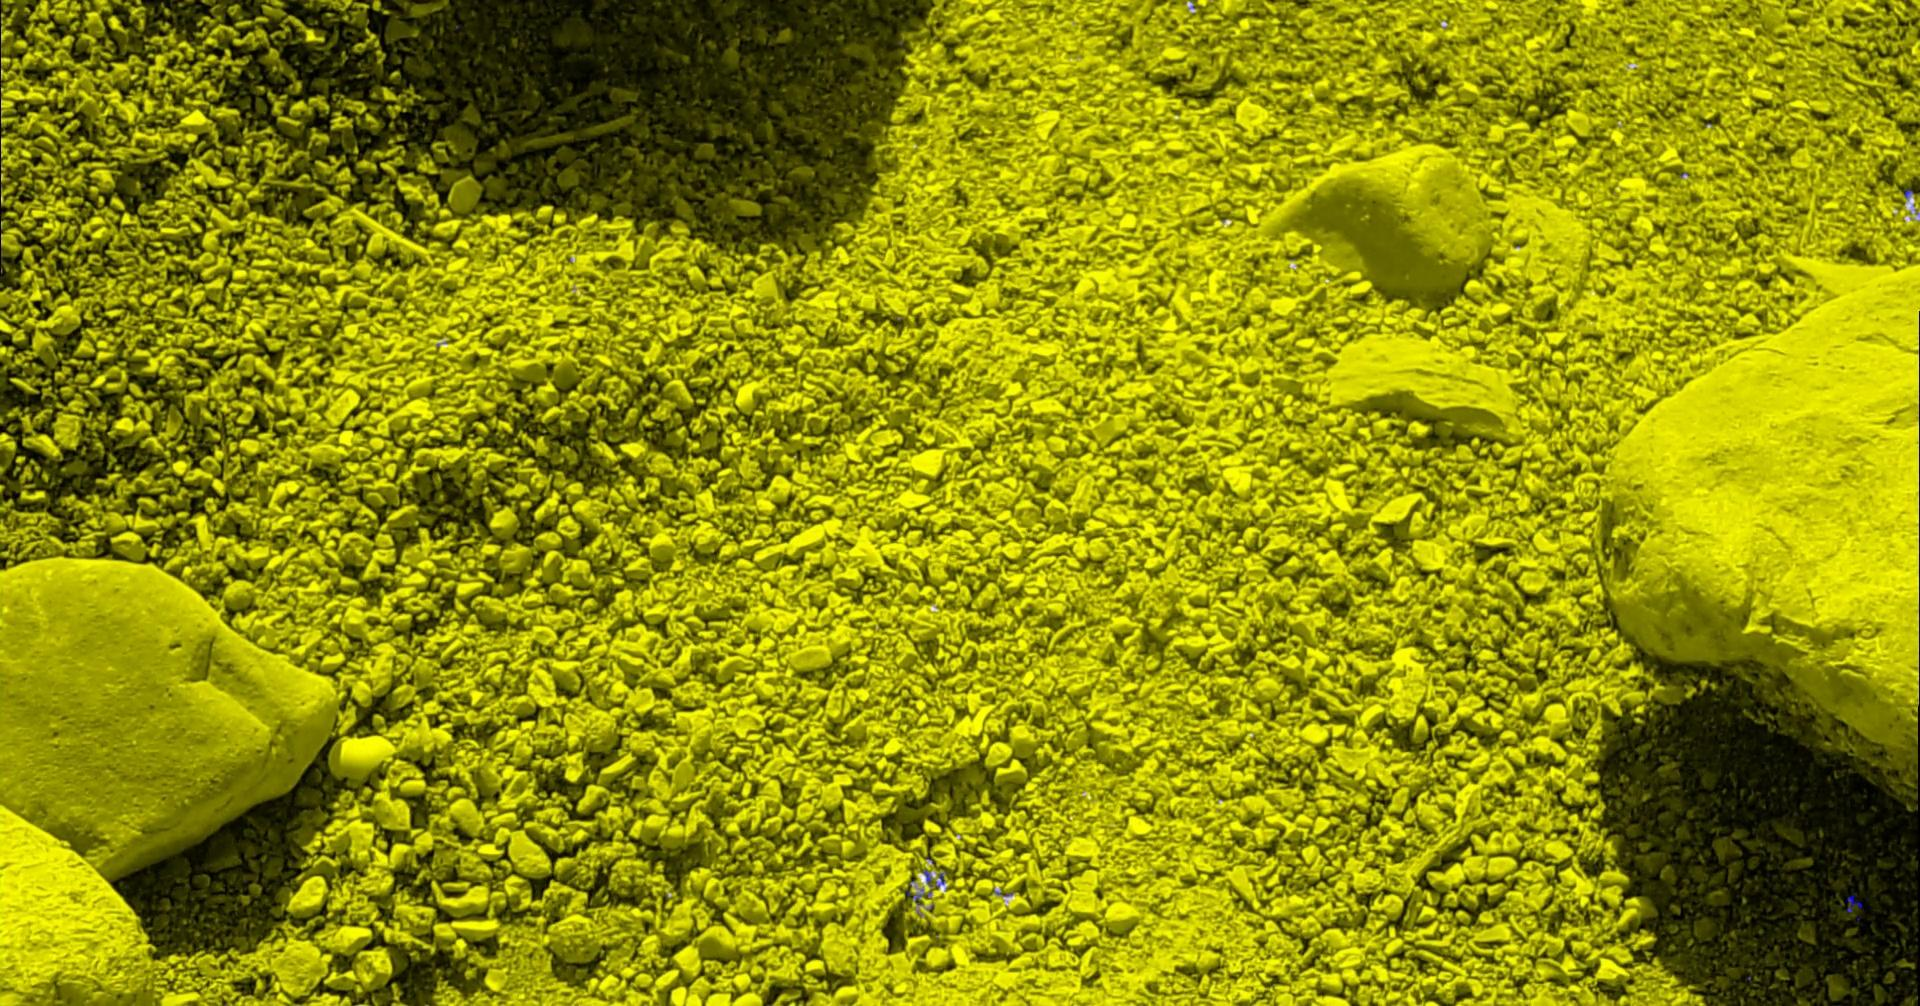ant: (921, 869, 946, 894), (1846, 894, 1862, 912)
